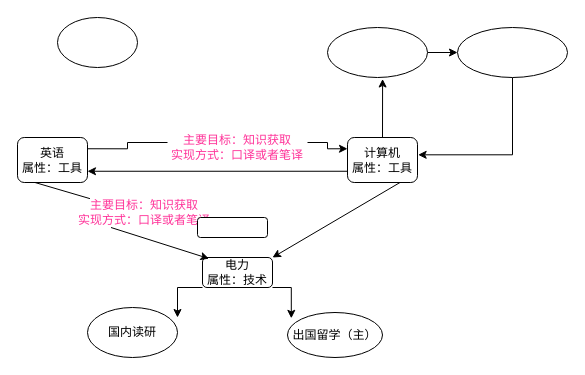
The diagram is 585 pixels wide and 375 high, and some of its shapes have lost their labels. The centre of each missing label's shape, as x and y in pixels:
"知道完整WEB端开发流程" belongs at point 512,52.
"知道完整移动端APP开发流程" belongs at point 377,52.
"跨境电商" belongs at point 232,227.
